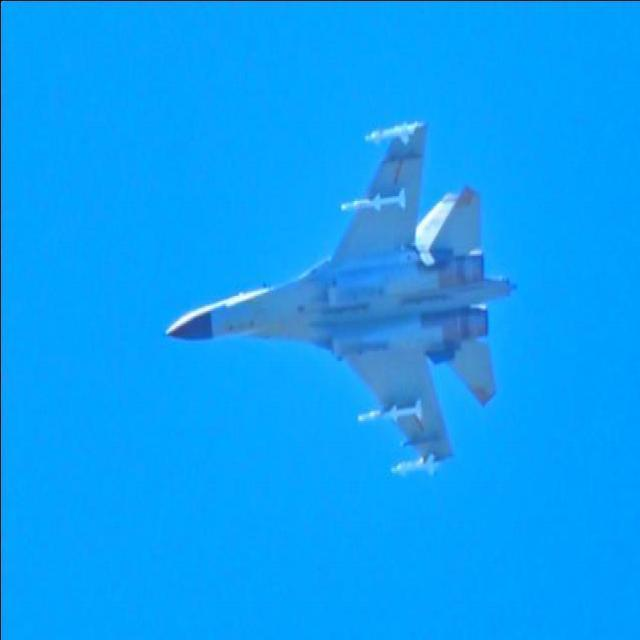missile: (330, 186, 419, 230), (352, 398, 434, 436), (360, 116, 429, 147), (390, 453, 446, 488)
